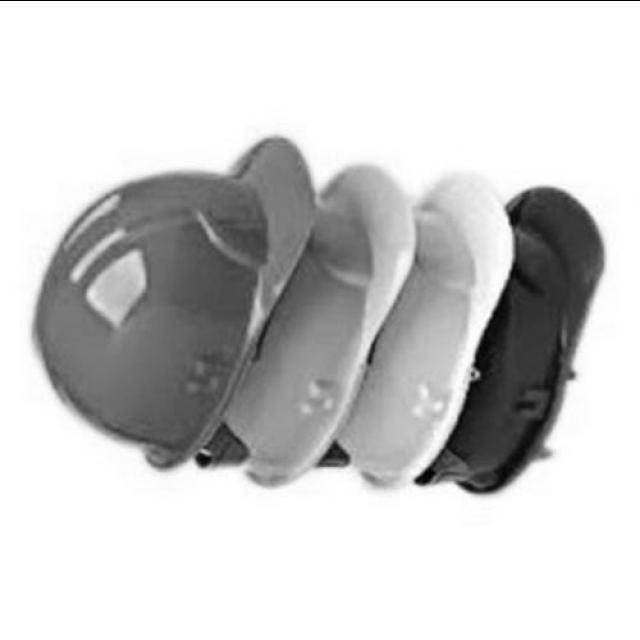safety_helmet: (32, 132, 319, 471)
